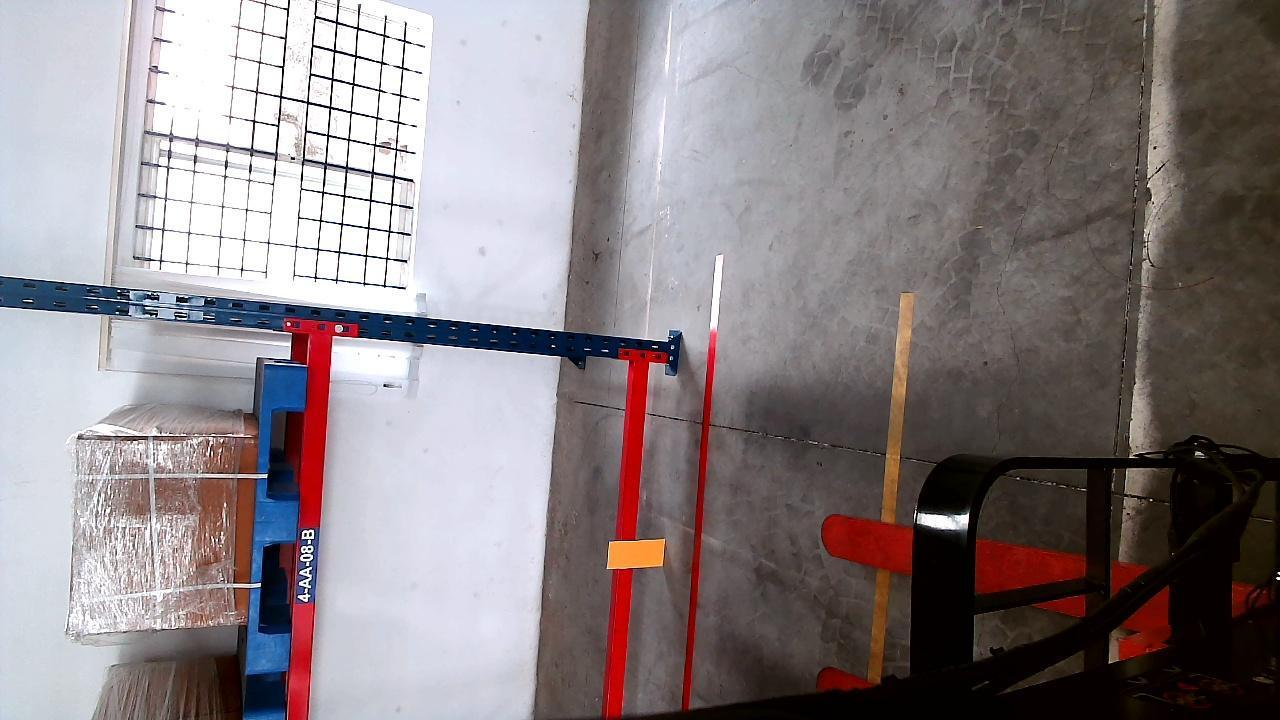h_rack: (286, 332, 334, 719), (604, 355, 647, 720)
orange_strip: (610, 539, 664, 569)
red_line: (681, 251, 725, 712)
small_pallet: (250, 363, 309, 671)
yellow_line: (868, 285, 913, 686)
